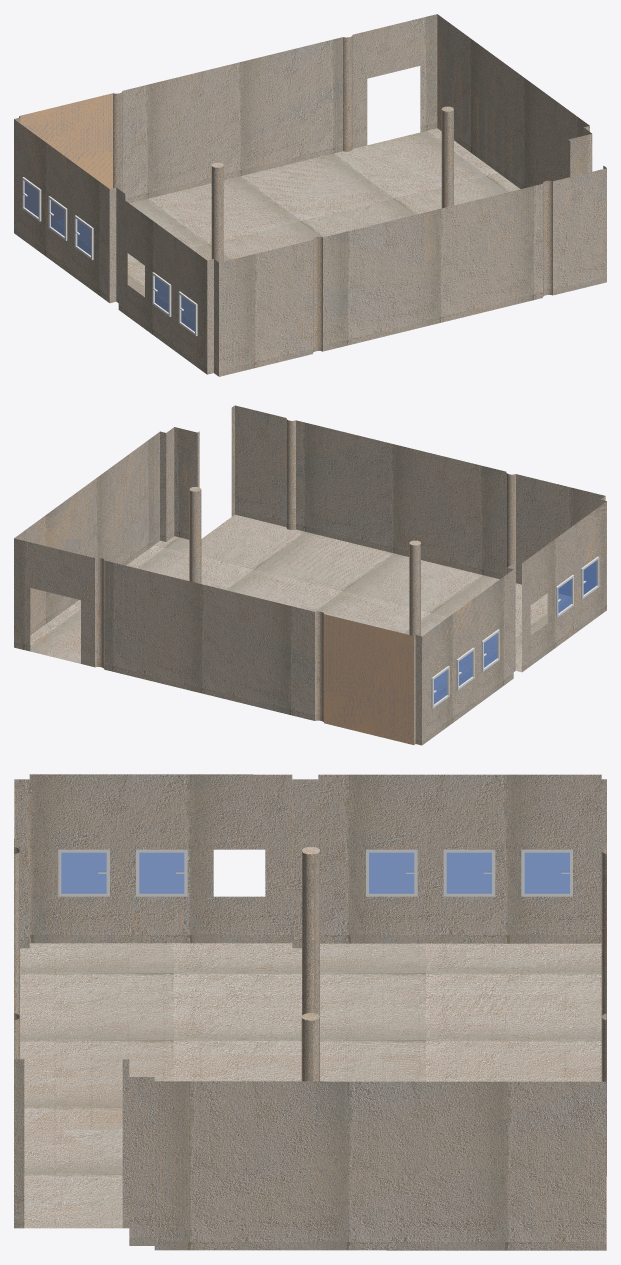
The model's file is AUL007.obj.
3 views of the same model, one above another, from view 1: azimuth 30°, elevation 25°; view 2: azimuth 150°, elevation 25°; view 3: azimuth 270°, elevation 25° (orthographic). The views are drawn at different scales.
Parts seen in each view (by area): view 1: Mesh16 AUL007 Model, Mesh1 ventana3_1_1 AUL007 Model, Mesh4 ventana3_1_2 AUL007 Model, Mesh10 ventana3_1_4 AUL007 Model, Mesh7 ventana3_1_3 AUL007 Model, Mesh13 ventana3_1_5 AUL007 Model; view 2: Mesh16 AUL007 Model, Mesh13 ventana3_1_5 AUL007 Model, Mesh1 ventana3_1_1 AUL007 Model, Mesh4 ventana3_1_2 AUL007 Model, Mesh7 ventana3_1_3 AUL007 Model, Mesh10 ventana3_1_4 AUL007 Model; view 3: Mesh16 AUL007 Model, Mesh1 ventana3_1_1 AUL007 Model, Mesh4 ventana3_1_2 AUL007 Model, Mesh7 ventana3_1_3 AUL007 Model, Mesh10 ventana3_1_4 AUL007 Model, Mesh13 ventana3_1_5 AUL007 Model.
Part boxes in pixels (x1,y1,x2,y2): Mesh16 AUL007 Model: (14,14,606,376); Mesh1 ventana3_1_1 AUL007 Model: (48,196,67,240); Mesh4 ventana3_1_2 AUL007 Model: (178,291,197,336); Mesh10 ventana3_1_4 AUL007 Model: (152,272,171,316); Mesh7 ventana3_1_3 AUL007 Model: (22,177,41,221); Mesh13 ventana3_1_5 AUL007 Model: (74,215,93,259); Mesh16 AUL007 Model: (14,405,606,745); Mesh13 ventana3_1_5 AUL007 Model: (481,629,499,671); Mesh1 ventana3_1_1 AUL007 Model: (456,647,474,690); Mesh4 ventana3_1_2 AUL007 Model: (581,556,599,599); Mesh7 ventana3_1_3 AUL007 Model: (431,666,449,708); Mesh10 ventana3_1_4 AUL007 Model: (556,575,573,617); Mesh16 AUL007 Model: (14,774,606,1250); Mesh1 ventana3_1_1 AUL007 Model: (443,849,495,896); Mesh4 ventana3_1_2 AUL007 Model: (58,849,109,896); Mesh7 ventana3_1_3 AUL007 Model: (521,849,572,896); Mesh10 ventana3_1_4 AUL007 Model: (136,849,187,896); Mesh13 ventana3_1_5 AUL007 Model: (366,849,417,896).
Size of the model in its own units: 14.08 by 3.6 by 11.45.
7 materials, 2 textured.
